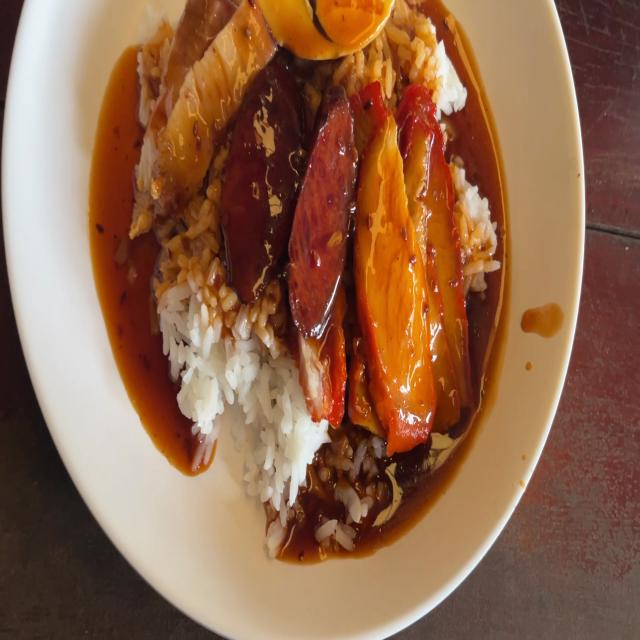red_pork_and_crispy_pork: (264, 0, 384, 59)
stir_fried_basil: (229, 78, 345, 300)
